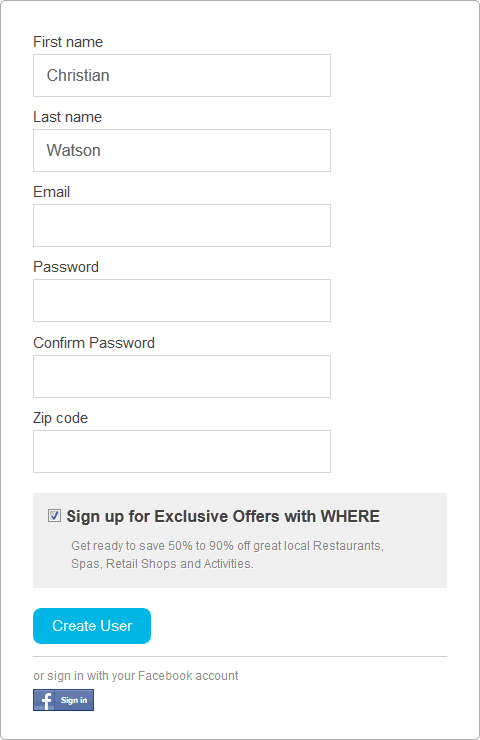_form_: (1, 330, 393, 733), (4, 11, 358, 421)
button: (33, 607, 153, 645), (31, 687, 95, 713)
checkbox: (45, 507, 65, 523)
checkbox_with_label: (42, 504, 382, 526)
field: (30, 201, 333, 249), (31, 51, 333, 98), (30, 276, 332, 323), (30, 127, 332, 173), (33, 353, 332, 399), (30, 429, 331, 473)
field_with_label: (27, 182, 335, 251), (28, 259, 335, 326), (28, 33, 334, 100), (31, 335, 335, 402), (27, 110, 334, 176), (27, 412, 334, 475)
